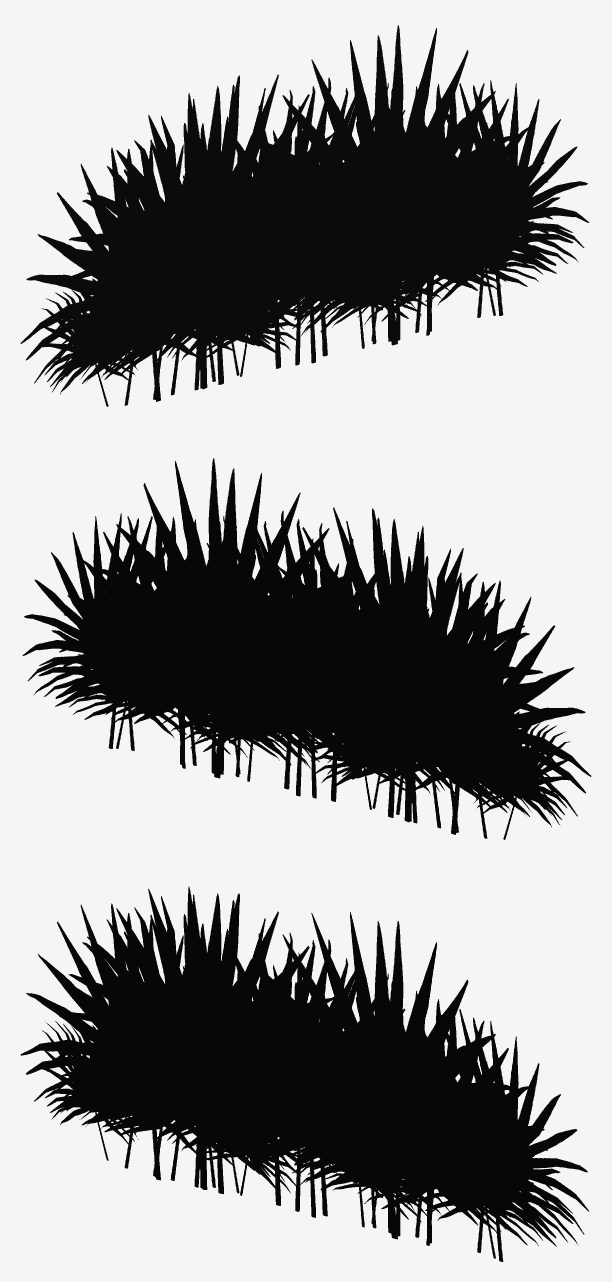
File: MSH_ChineseFanPalm_Light_Imposters_ABCD.fbx
The picture shows the model from 3 angles, top to bottom: view 1: azimuth 30°, elevation 25°; view 2: azimuth 150°, elevation 25°; view 3: azimuth 330°, elevation 25°; orthographic projection.
Visible parts, largest first — view 1: ChineseFanPalm_Light_Imposters_B_GEO, ChineseFanPalm_Light_Imposters_C_GEO, ChineseFanPalm_Light_Imposters_A_GEO, ChineseFanPalm_Light_Imposters_D_GEO; view 2: ChineseFanPalm_Light_Imposters_B_GEO, ChineseFanPalm_Light_Imposters_A_GEO, ChineseFanPalm_Light_Imposters_C_GEO, ChineseFanPalm_Light_Imposters_D_GEO; view 3: ChineseFanPalm_Light_Imposters_A_GEO, ChineseFanPalm_Light_Imposters_B_GEO, ChineseFanPalm_Light_Imposters_C_GEO, ChineseFanPalm_Light_Imposters_D_GEO.
Part boxes in pixels (x1,y1,x2,y2): ChineseFanPalm_Light_Imposters_B_GEO: [59, 25, 543, 405]; ChineseFanPalm_Light_Imposters_C_GEO: [20, 80, 589, 401]; ChineseFanPalm_Light_Imposters_A_GEO: [76, 77, 552, 395]; ChineseFanPalm_Light_Imposters_D_GEO: [40, 67, 573, 406]; ChineseFanPalm_Light_Imposters_B_GEO: [68, 458, 551, 838]; ChineseFanPalm_Light_Imposters_A_GEO: [59, 510, 535, 828]; ChineseFanPalm_Light_Imposters_C_GEO: [22, 513, 591, 834]; ChineseFanPalm_Light_Imposters_D_GEO: [38, 502, 570, 839]; ChineseFanPalm_Light_Imposters_A_GEO: [76, 914, 552, 1243]; ChineseFanPalm_Light_Imposters_B_GEO: [59, 894, 542, 1258]; ChineseFanPalm_Light_Imposters_C_GEO: [20, 903, 588, 1261]; ChineseFanPalm_Light_Imposters_D_GEO: [41, 886, 573, 1252].
Bounding box in the file's own units: 261 × 141 × 0.
